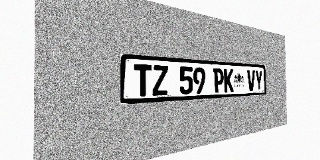5: (180, 66, 193, 94)
9: (193, 67, 205, 94)
K: (224, 69, 233, 92)
P: (213, 68, 224, 93)
T: (134, 64, 152, 97)
V: (247, 70, 255, 91)
Y: (255, 70, 262, 91)
Z: (152, 65, 168, 96)
